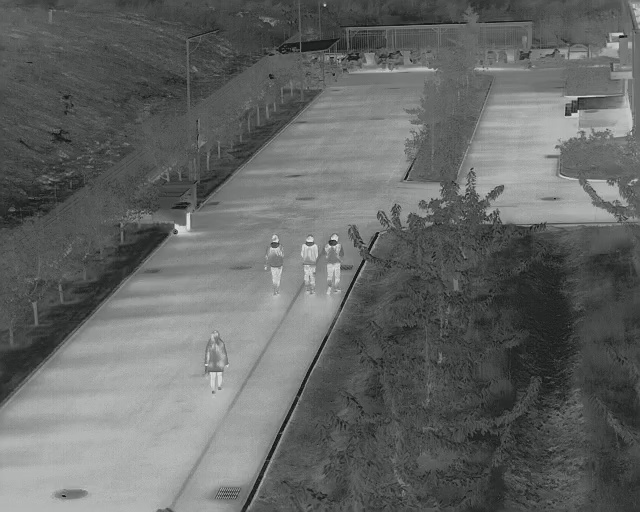person: (202, 332, 230, 397), (323, 230, 346, 295), (263, 233, 286, 296), (300, 232, 319, 295)
